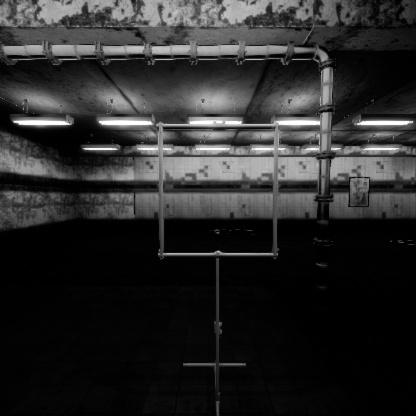gate: (158, 157, 290, 292)
